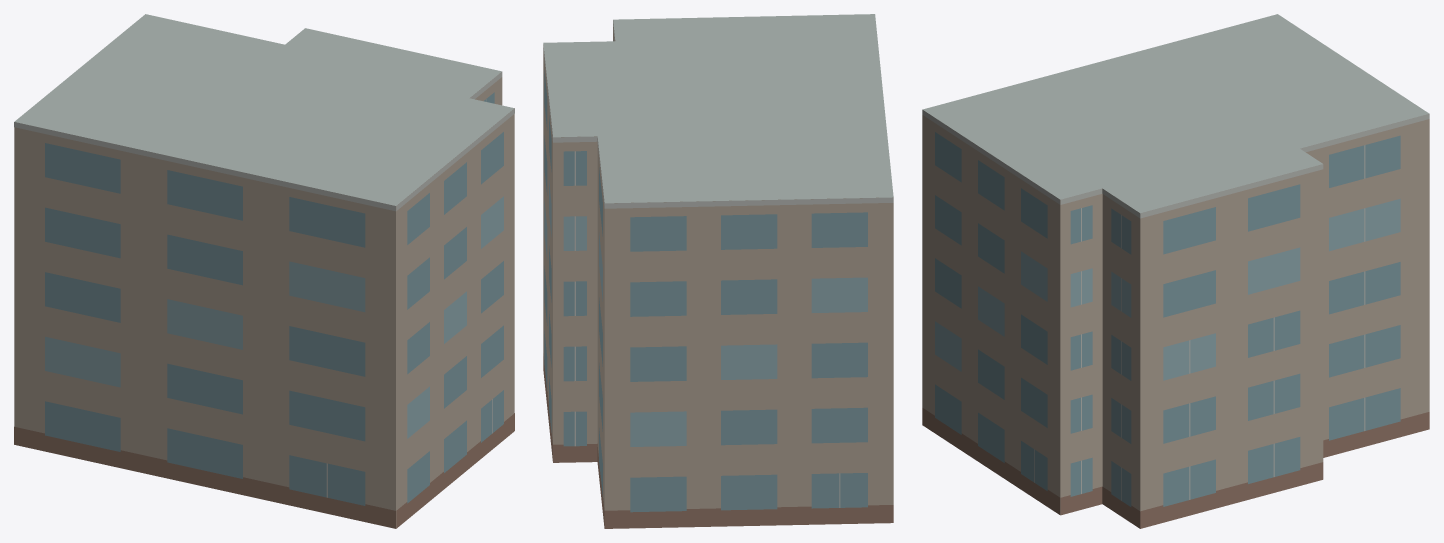
Rendered from survey-upis-32938436.glb.
3 views of the same model, side by side, from view 1: azimuth 30°, elevation 25°; view 2: azimuth 150°, elevation 25°; view 3: azimuth 270°, elevation 25° (orthographic). The views are drawn at different scales.
Visible parts, largest first — view 1: survey-upis-32938436.tmp; view 2: survey-upis-32938436.tmp; view 3: survey-upis-32938436.tmp.
Boxes of the visible parts, x1,y1,x2,y2 form: survey-upis-32938436.tmp: (14, 14, 514, 528); survey-upis-32938436.tmp: (543, 14, 893, 528); survey-upis-32938436.tmp: (922, 14, 1429, 528).
Size of the model in its own units: 19.92 by 14.7 by 21.42.
